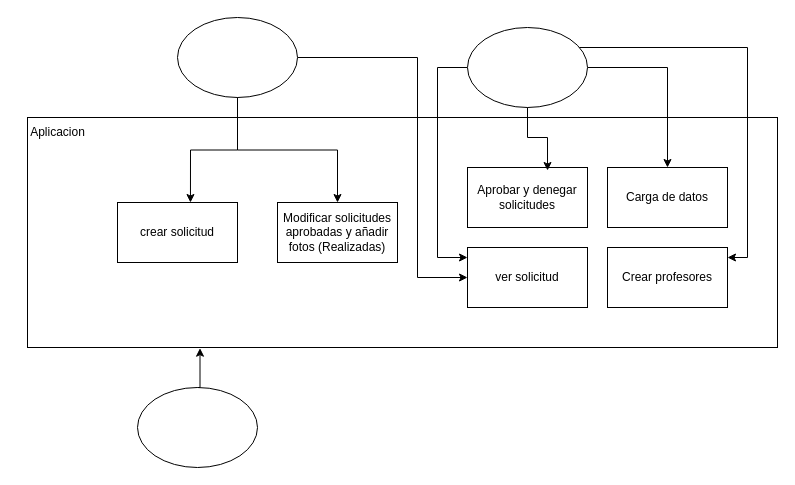
Image size: 795x485. Some labels were removed from this diagram. Each missing label, with the centre of its shape:
"Equipo directivo / administrativo" goes at point (527, 67).
"Profesor" goes at point (237, 57).
"Superusuario" goes at point (197, 427).
